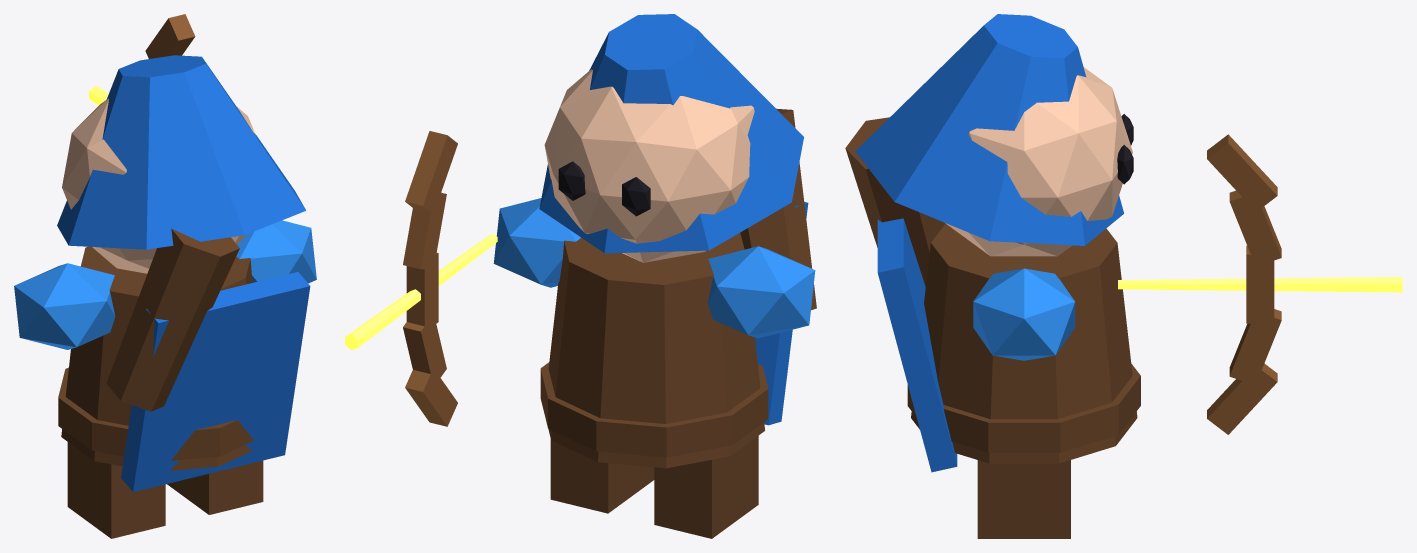
Rendered from unit-archer.glb.
3 renders of one model, left to right at view 1: azimuth 30°, elevation 25°; view 2: azimuth 150°, elevation 25°; view 3: azimuth 270°, elevation 25°, orthographic. The views are drawn at different scales.
Parts seen in each view (by area): view 1: Unit_Archer; view 2: Unit_Archer; view 3: Unit_Archer.
Part boxes in pixels (bbox=[...]): Unit_Archer: bbox=[14, 14, 316, 538]; Unit_Archer: bbox=[345, 14, 816, 538]; Unit_Archer: bbox=[845, 14, 1402, 538].
Size of the model in its own units: 1.03 by 1.51 by 1.61.
